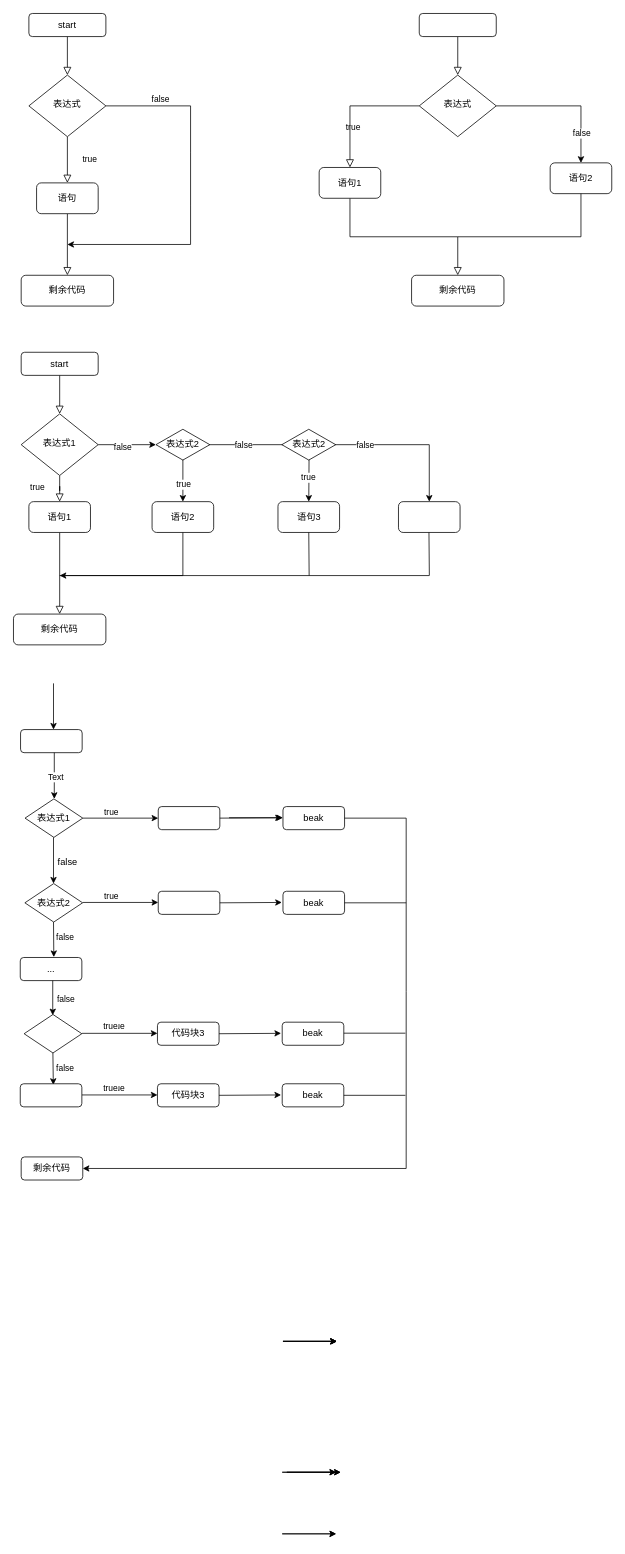
The diagram is 625 pixels wide and 1554 high, and some of its shapes have lost their labels. Here are the shapes that lost their labels. From the top down, the box of each, then its label:
(398, 501, 460, 532): 语句4
(20, 729, 82, 753): 计算表达式的值
(157, 806, 220, 830): 代码块1
(157, 891, 220, 914): 代码块2
(23, 1014, 82, 1053): 表达式3
(19, 1083, 82, 1107): default
